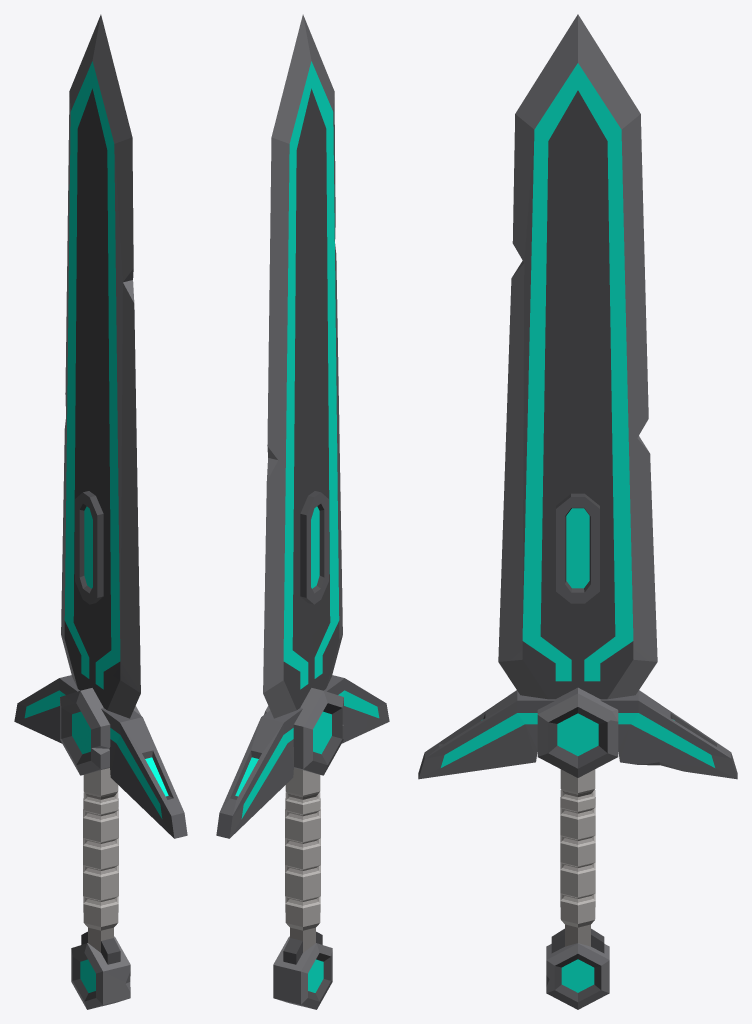
The model's file is SM_Wep_Sword_07.fbx.
The picture shows the model from 3 angles, left to right: view 1: azimuth 30°, elevation 25°; view 2: azimuth 150°, elevation 25°; view 3: azimuth 270°, elevation 25°; orthographic projection.
Parts seen in each view (by area): view 1: SM_Wep_Sword_07; view 2: SM_Wep_Sword_07; view 3: SM_Wep_Sword_07.
Boxes of the visible parts, x1=… form: SM_Wep_Sword_07: x1=14, y1=14, x2=187, y2=1009; SM_Wep_Sword_07: x1=216, y1=14, x2=389, y2=1009; SM_Wep_Sword_07: x1=418, y1=14, x2=737, y2=1009.
Size of the model in its own units: 7.73 by 148 by 43.36.
